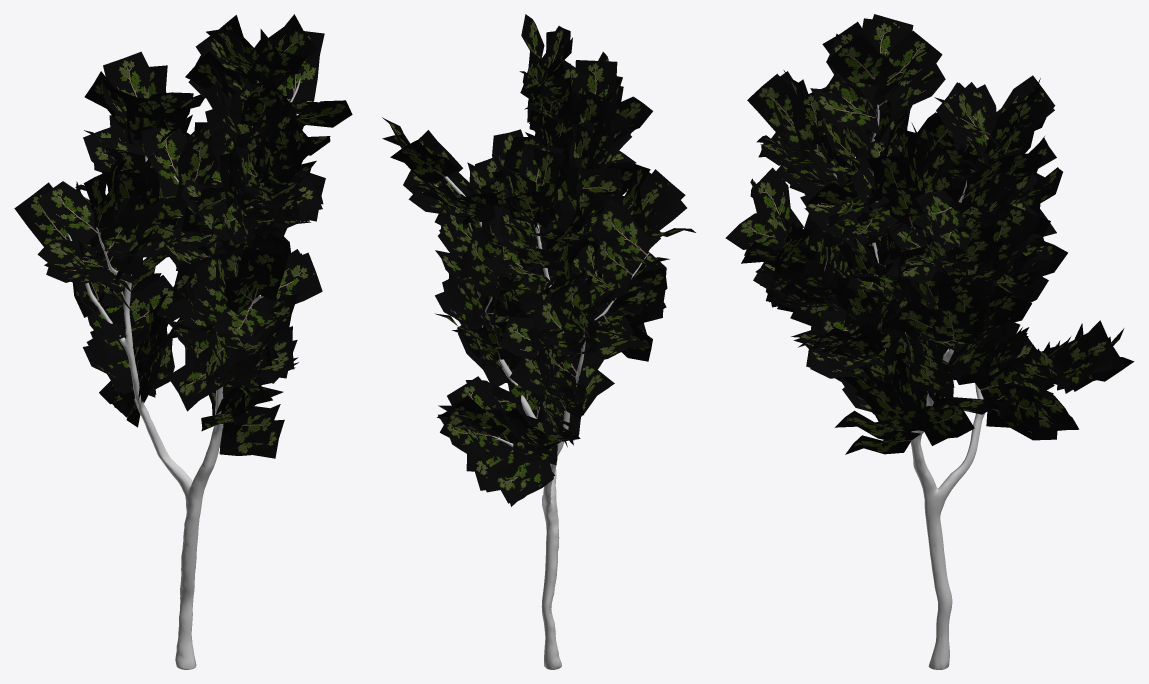
The model's file is Tree_Skeatchfab2.fbx.
3 views of the same model, side by side, from view 1: azimuth 30°, elevation 25°; view 2: azimuth 150°, elevation 25°; view 3: azimuth 270°, elevation 25° (orthographic). The views are drawn at different scales.
Visible parts, largest first — view 1: Plane.008; view 2: Plane.008; view 3: Plane.008.
Boxes of the visible parts, box(x1,y1,x2,y2) form: Plane.008: box(14, 14, 352, 669); Plane.008: box(382, 14, 695, 669); Plane.008: box(725, 14, 1134, 669).
Bounding box in the file's own units: 918 × 1968 × 1094.
